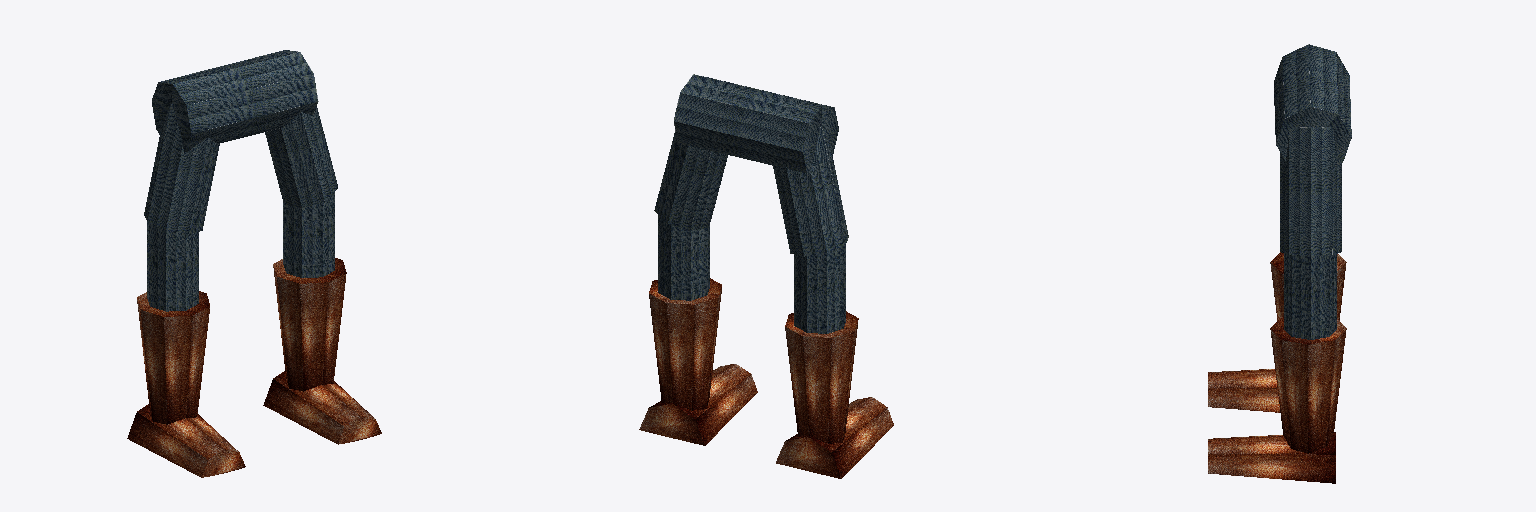
3 views of the same model, side by side, from view 1: azimuth 30°, elevation 25°; view 2: azimuth 150°, elevation 25°; view 3: azimuth 270°, elevation 25° (orthographic).
Visible parts, largest first — view 1: RightLowerLeg, LeftLowerLeg, Body, RightUpperLeg, LeftUpperLeg; view 2: RightLowerLeg, LeftLowerLeg, Body, RightUpperLeg, LeftUpperLeg; view 3: LeftLowerLeg, LeftUpperLeg, Body, RightLowerLeg.
Part boxes in pixels (x1,y1,x2,y2): RightLowerLeg: (127,222,245,477); LeftLowerLeg: (263,192,381,444); Body: (152,50,318,152); RightUpperLeg: (144,104,219,233); LeftUpperLeg: (265,107,337,207); RightLowerLeg: (776,245,893,478); LeftLowerLeg: (639,215,757,445); Body: (674,74,838,173); RightUpperLeg: (773,126,848,256); LeftUpperLeg: (654,132,727,230); LeftLowerLeg: (1208,254,1346,483); LeftUpperLeg: (1280,127,1341,256); Body: (1274,44,1351,165); RightLowerLeg: (1208,252,1346,412).
Bounding box in the file's own units: 1.79 × 3.02 × 1.1.
Materials: 2 (2 with a texture image).